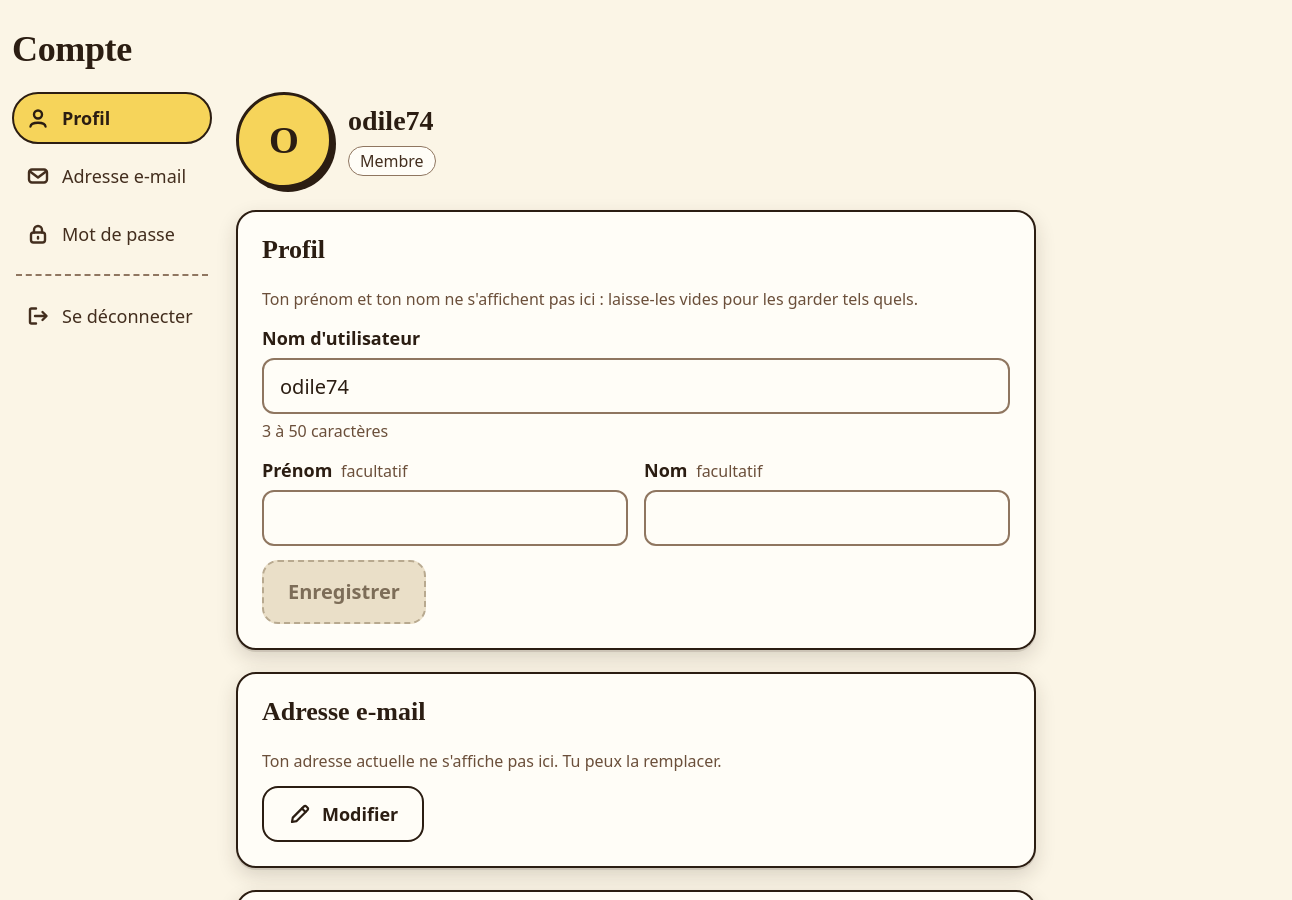
Test: AccountScreen › the profile card › shows the unsaved mark and a button that can be pressed as soon as a value changes
The image size is (1292, 900).
Expected: the text "Modifications non enregistrées" is not shown
Type "5" into the field labelled "Nom d'utilisateur" at (636, 386), box [262,358,1010,414]
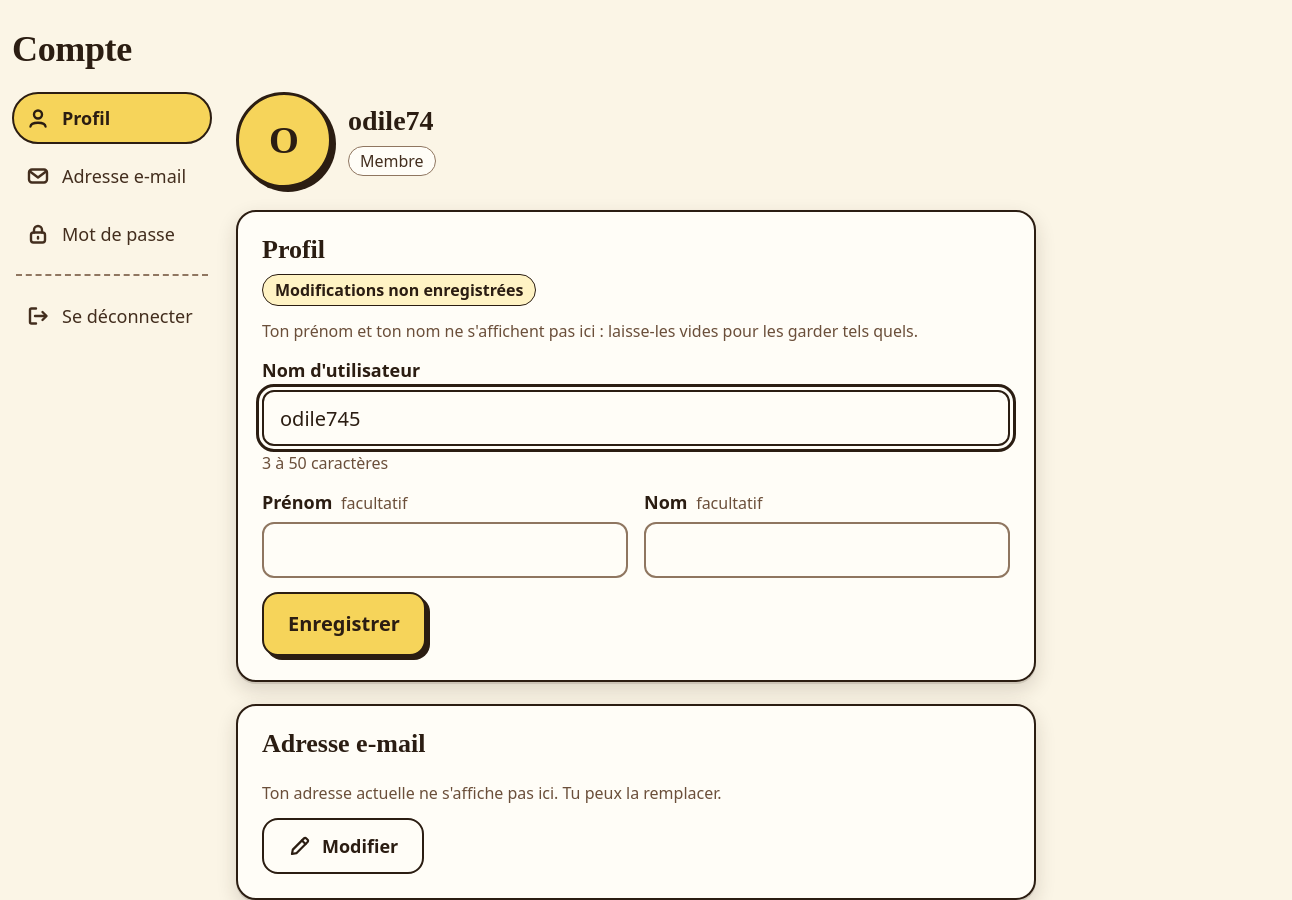
Result: the text "Modifications non enregistrées" is shown at [262,274,536,306]
Result: the button "Enregistrer" is enabled at [262,592,426,656]
